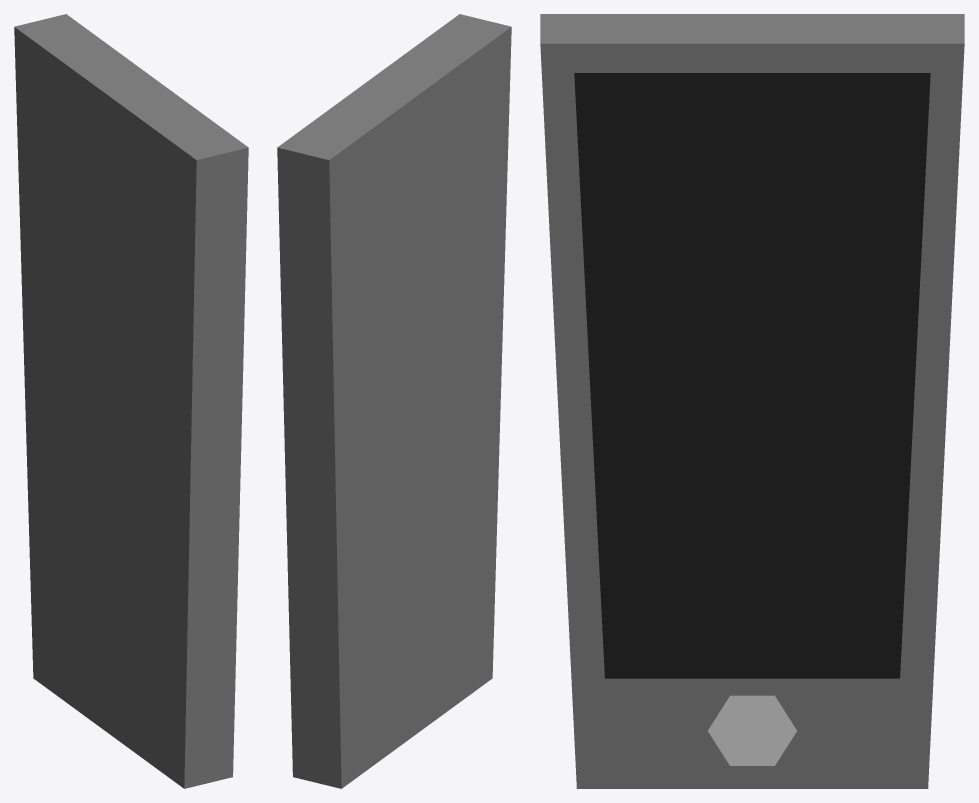
File: _elular.fbx
The picture shows the model from 3 angles, left to right: view 1: azimuth 30°, elevation 25°; view 2: azimuth 150°, elevation 25°; view 3: azimuth 270°, elevation 25°; orthographic projection. The views are drawn at different scales.
Visible parts, largest first — view 1: Cube; view 2: Cube; view 3: Cube.
Part boxes in pixels (x1=…): Cube: x1=14, y1=14, x2=248, y2=788; Cube: x1=277, y1=14, x2=511, y2=788; Cube: x1=540, y1=14, x2=964, y2=788.
Size of the model in its own units: 32.98 by 388 by 200.
